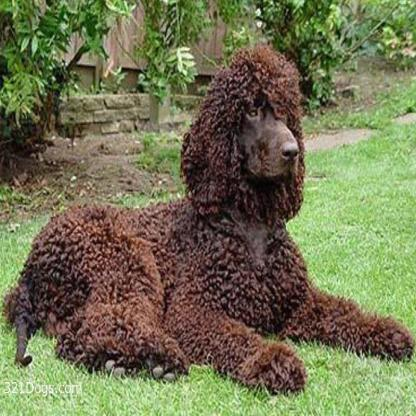Irish_water_spaniel: (4, 46, 415, 394)
